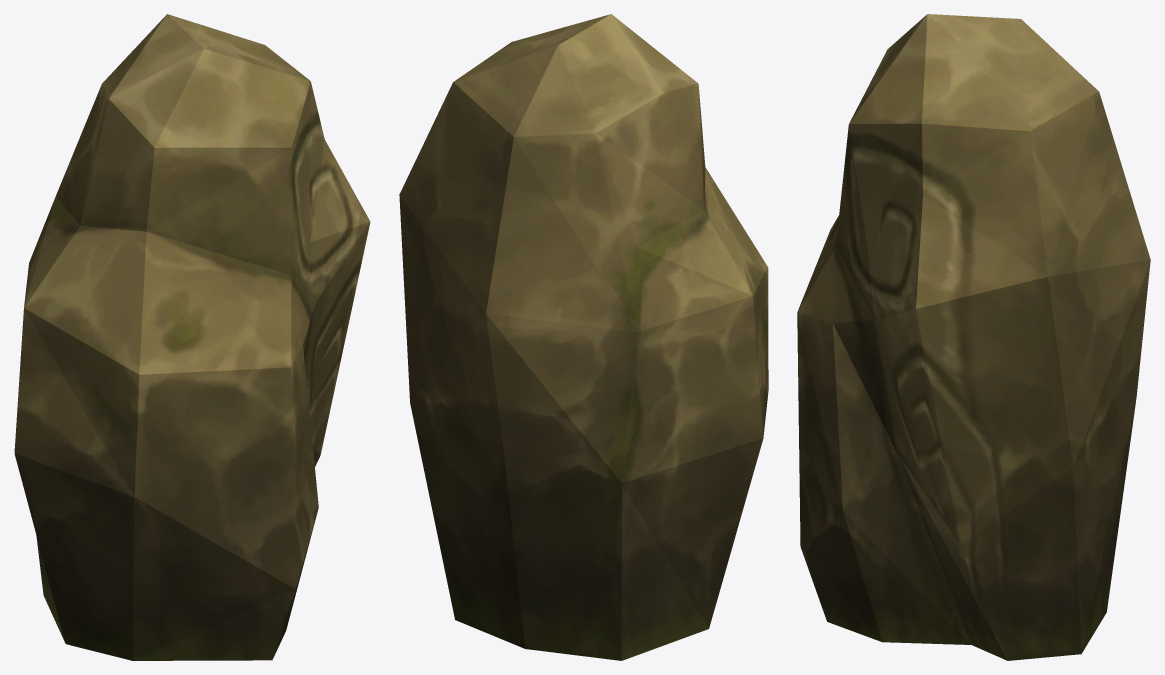
Rendered from stone_02.fbx.
3 views of the same model, side by side, from view 1: azimuth 30°, elevation 25°; view 2: azimuth 150°, elevation 25°; view 3: azimuth 270°, elevation 25° (orthographic). The views are drawn at different scales.
Visible parts, largest first — view 1: obj0.023; view 2: obj0.023; view 3: obj0.023.
Boxes of the visible parts, <box> form: obj0.023: <box>14,14,370,660</box>; obj0.023: <box>399,14,768,660</box>; obj0.023: <box>797,14,1150,660</box>.
Bounding box in the file's own units: 8.1 × 13.5 × 7.23.
